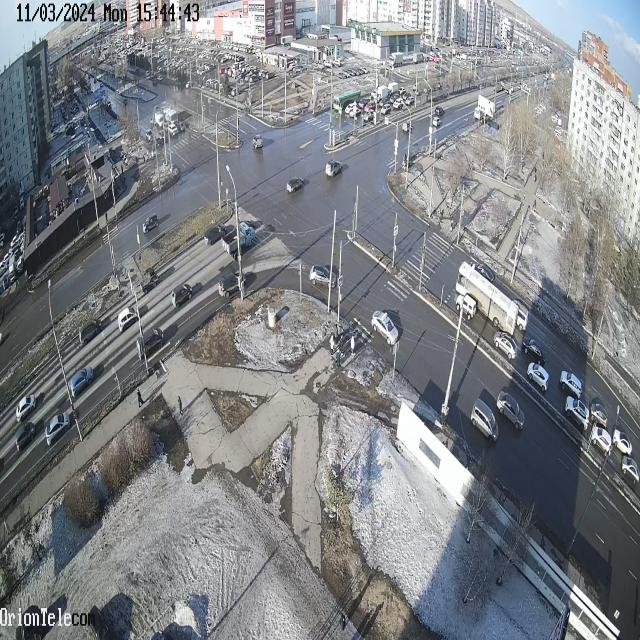car: (456, 262, 519, 340), (494, 388, 526, 434), (221, 220, 255, 262), (470, 398, 499, 446), (371, 308, 401, 349), (137, 322, 164, 364), (219, 265, 248, 303), (44, 407, 71, 447), (565, 395, 589, 433), (492, 328, 518, 363), (14, 418, 37, 457), (521, 332, 546, 367), (308, 263, 338, 292), (70, 366, 96, 398), (15, 391, 38, 426), (527, 359, 550, 394), (591, 423, 613, 459), (619, 451, 640, 487), (560, 367, 582, 401), (117, 302, 139, 336), (79, 312, 102, 344), (203, 222, 228, 250), (612, 426, 632, 460), (457, 292, 478, 324), (588, 399, 608, 431), (171, 282, 193, 311), (511, 297, 528, 333), (285, 173, 306, 198), (324, 158, 345, 182), (142, 211, 159, 235), (251, 133, 263, 150), (363, 109, 376, 123), (380, 102, 392, 117), (349, 106, 362, 119), (431, 115, 443, 129), (393, 97, 404, 111), (434, 106, 444, 118)
